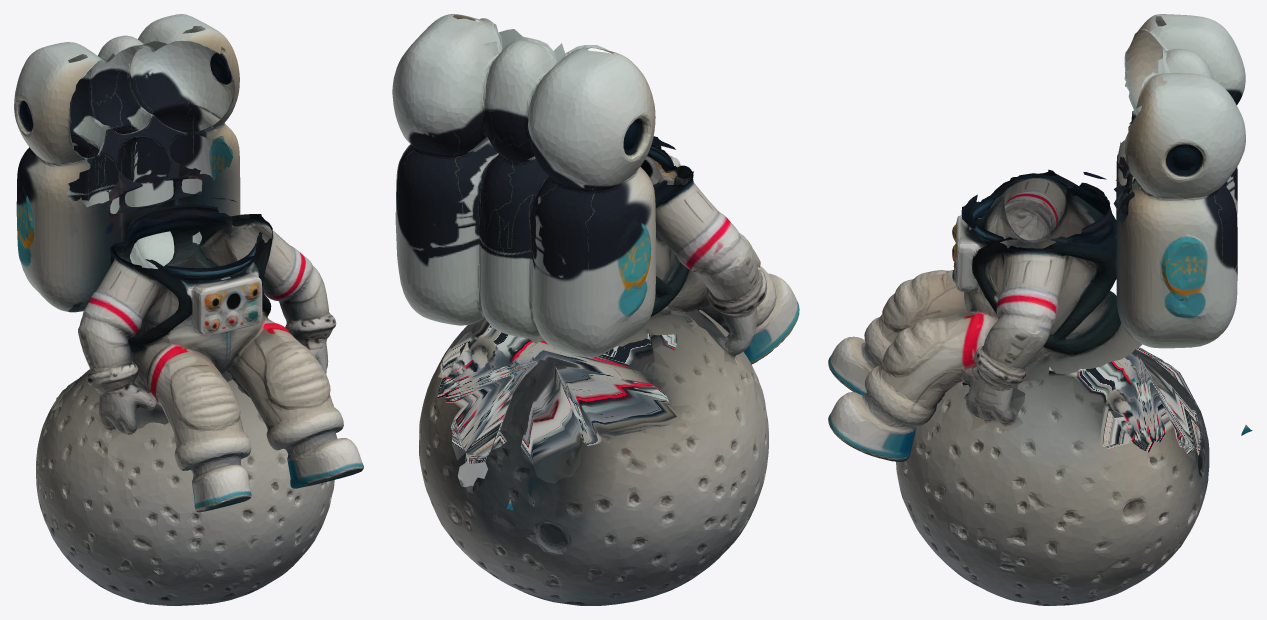
File: astronaut_body.glb
3 renders of one model, left to right at view 1: azimuth 30°, elevation 25°; view 2: azimuth 150°, elevation 25°; view 3: azimuth 270°, elevation 25°, orthographic. The views are drawn at different scales.
Visible parts, largest first — view 1: material001; view 2: material001; view 3: material001.
Part boxes in pixels (x1=…): material001: x1=14, y1=14, x2=363, y2=605; material001: x1=392, y1=14, x2=799, y2=605; material001: x1=828, y1=14, x2=1252, y2=605.
Bounding box in the file's own units: 0.985 × 1.83 × 1.31.
1 material, 1 textured.
